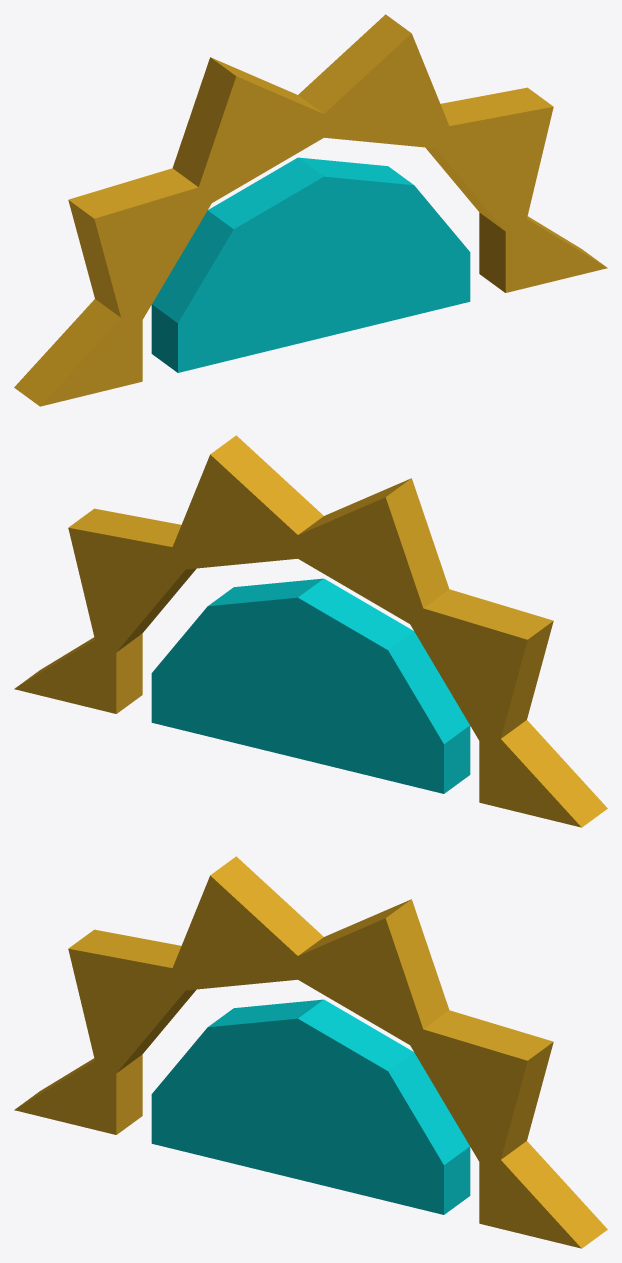
The model's file is Prop_Jungle_Temple_Ornament_Icon_Plaque_Small_Gold_Gem_03.FBX.
3 renders of one model, top to bottom at view 1: azimuth 30°, elevation 25°; view 2: azimuth 150°, elevation 25°; view 3: azimuth 330°, elevation 25°, orthographic.
Parts seen in each view (by area): view 1: Prop_Jungle_Temple_Ornament_Icon_Plaque_Small_Gold_Gem_03; view 2: Prop_Jungle_Temple_Ornament_Icon_Plaque_Small_Gold_Gem_03; view 3: Prop_Jungle_Temple_Ornament_Icon_Plaque_Small_Gold_Gem_03.
Boxes of the visible parts, x1,y1,x2,y2 form: Prop_Jungle_Temple_Ornament_Icon_Plaque_Small_Gold_Gem_03: [14, 14, 607, 406]; Prop_Jungle_Temple_Ornament_Icon_Plaque_Small_Gold_Gem_03: [14, 435, 607, 827]; Prop_Jungle_Temple_Ornament_Icon_Plaque_Small_Gold_Gem_03: [14, 856, 607, 1248].
Size of the model in its own units: 558 by 265 by 44.43.
